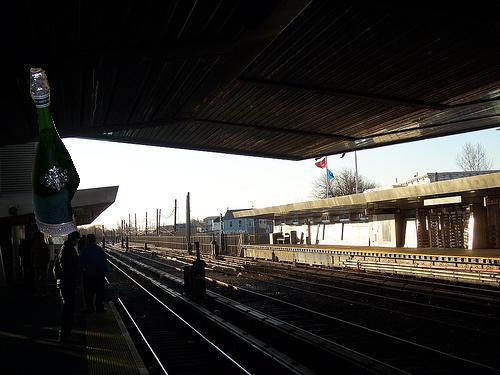tampered: (31, 69, 80, 236)
